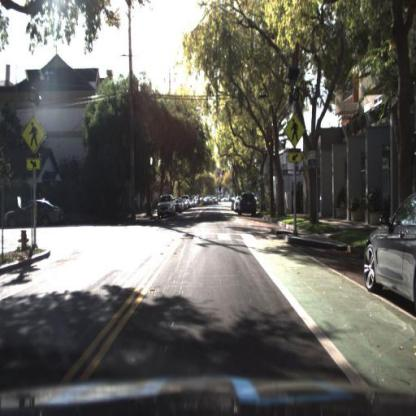car: (363, 188, 416, 316), (4, 198, 66, 235), (155, 193, 176, 220), (237, 193, 257, 217), (240, 192, 258, 218)
